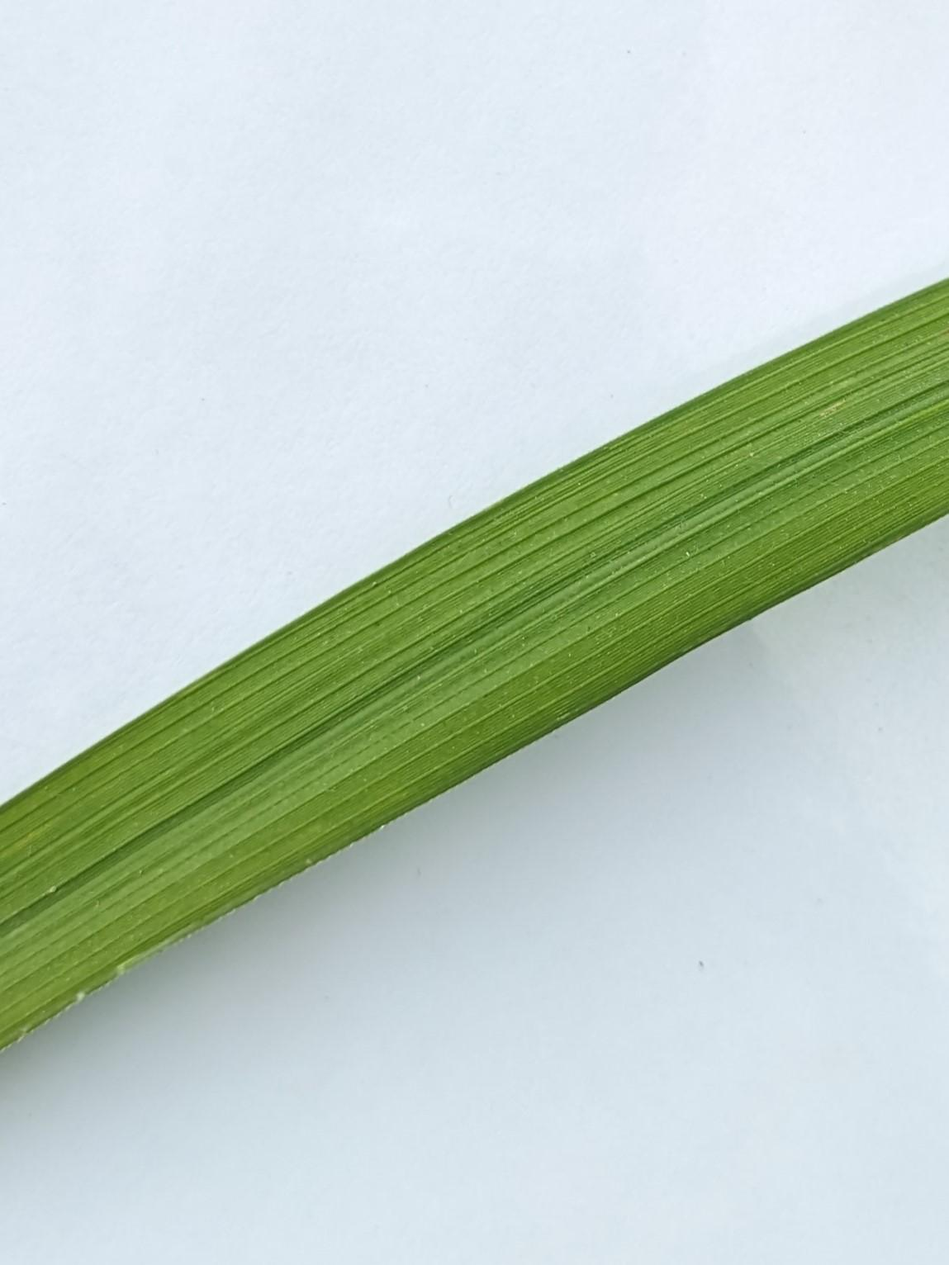Healthy: (0, 281, 948, 1047)
